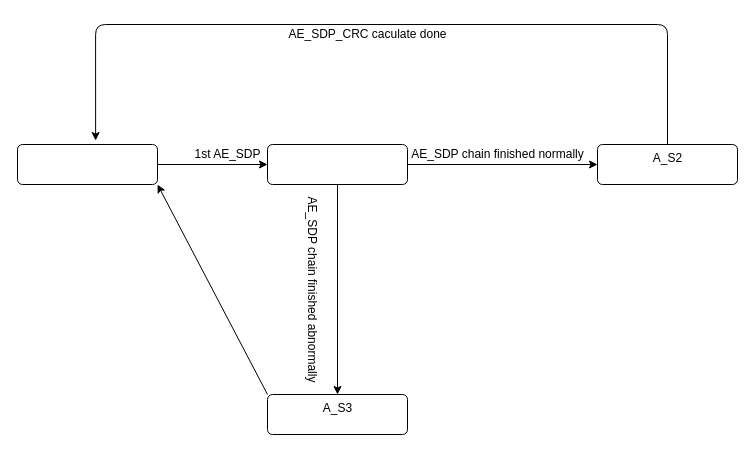
Some shapes in this 755 by 452 pixel diagram are drawn without their labels. Here are the shapes that lost their labels. From the top down, the box of each, then its label:
(16, 144, 158, 184): A_S0
(266, 144, 408, 184): A_S1
